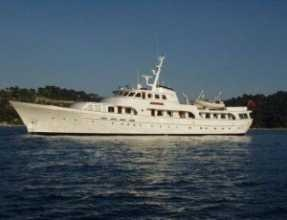yacht: (9, 67, 281, 134)
